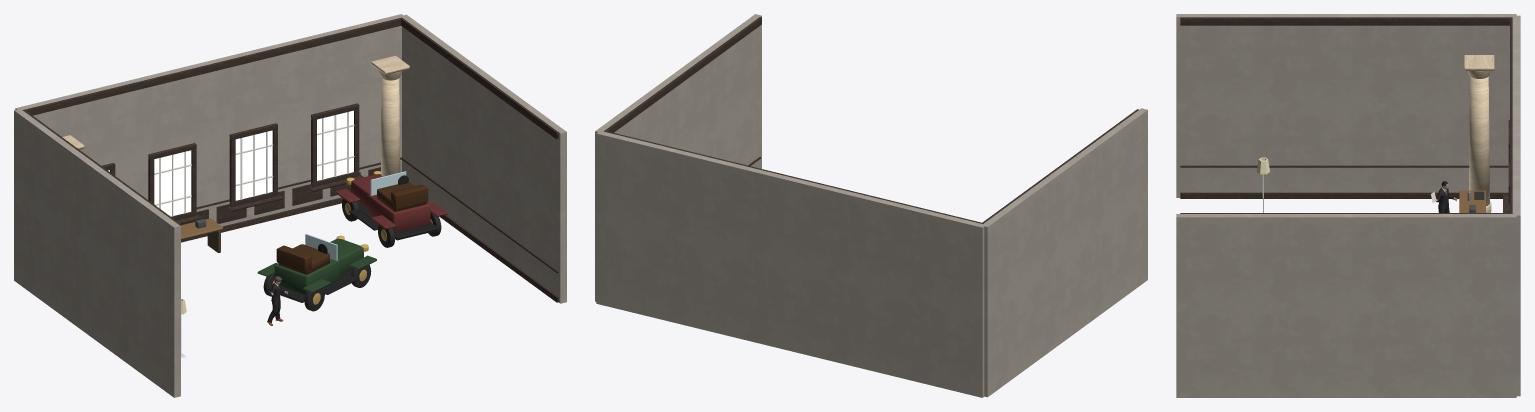
File: tito.glb
3 renders of one model, left to right at view 1: azimuth 30°, elevation 25°; view 2: azimuth 150°, elevation 25°; view 3: azimuth 270°, elevation 25°, orthographic. The views are drawn at different scales.
Visible parts, largest first — view 1: wall_back, wall_left, wall_right, box.006, pane.002, pane.003, pane.001, cyl.030, box.008, box.071, box.057, box (+11 smaller); view 2: wall_back, wall_left, wall_right, box.008, box.006; view 3: wall_right, wall_left, box.007, wall_back, cyl.027, box.001, box.004, box.006, box.093, box.083, box.008.
Part boxes in pixels (x1,y1,x2,y2): wall_back: [15, 14, 404, 226]; wall_left: [14, 109, 180, 397]; wall_right: [402, 14, 566, 303]; box.006: [23, 17, 401, 115]; pane.002: [235, 130, 272, 200]; pane.003: [317, 110, 353, 180]; pane.001: [154, 150, 191, 216]; cyl.030: [381, 78, 400, 176]; box.008: [401, 18, 558, 139]; box.071: [368, 194, 430, 232]; box.057: [274, 258, 340, 295]; box: [181, 197, 342, 242]; wall_back: [596, 131, 985, 397]; wall_left: [982, 108, 1147, 397]; wall_right: [595, 14, 761, 301]; box.008: [604, 17, 761, 132]; box.006: [605, 131, 982, 223]; wall_right: [1176, 214, 1516, 397]; wall_left: [1176, 14, 1516, 197]; box.007: [1180, 17, 1511, 25]; wall_back: [1512, 15, 1520, 396]; cyl.027: [1469, 76, 1489, 206]; box.001: [1180, 192, 1508, 198]; box.004: [1180, 165, 1508, 167]; box.006: [1510, 17, 1512, 213]; box.093: [1464, 55, 1494, 70]; box.083: [1459, 190, 1485, 212]; box.008: [1180, 213, 1511, 213].
Size of what is drawn, in the model's own units: 14.48 by 6.04 by 10.36.
42 materials, 23 textured.
